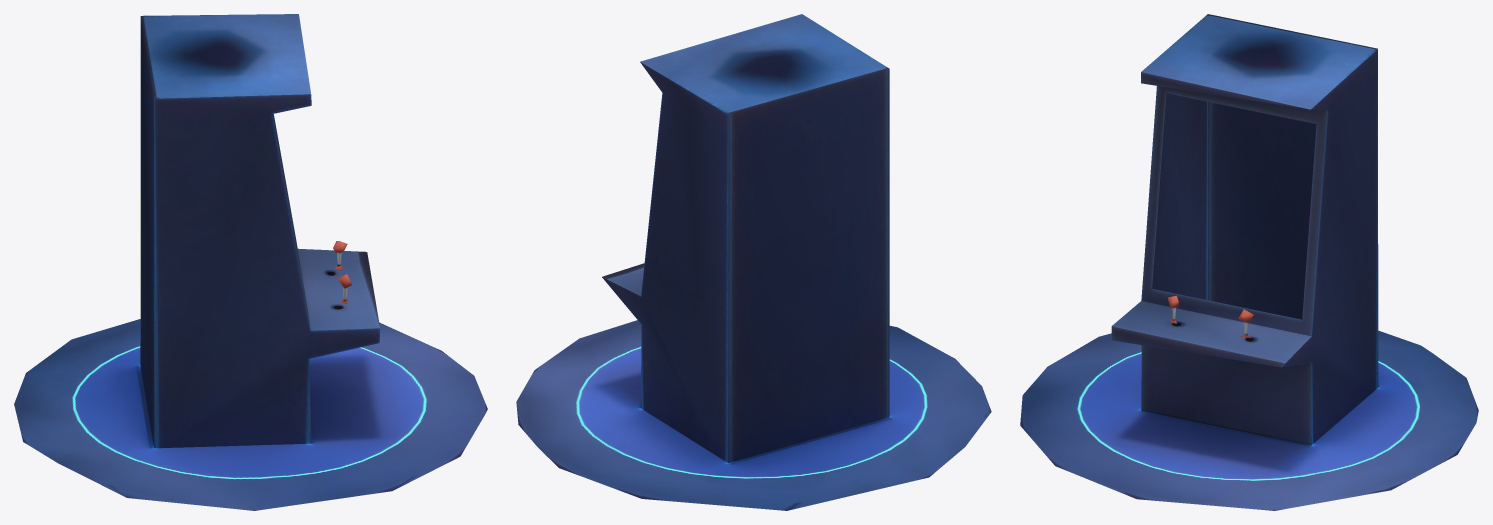
File: GameStation_LOD5.glb
3 views of the same model, side by side, from view 1: azimuth 30°, elevation 25°; view 2: azimuth 150°, elevation 25°; view 3: azimuth 270°, elevation 25° (orthographic). The views are drawn at different scales.
Parts seen in each view (by area): view 1: Game Station_PROCESSED.001_LOD5; view 2: Game Station_PROCESSED.001_LOD5; view 3: Game Station_PROCESSED.001_LOD5.
Part boxes in pixels (x1=…): Game Station_PROCESSED.001_LOD5: x1=14, y1=14, x2=487, y2=510; Game Station_PROCESSED.001_LOD5: x1=516, y1=14, x2=991, y2=510; Game Station_PROCESSED.001_LOD5: x1=1020, y1=14, x2=1478, y2=510.
Size of the model in its own units: 4.12 by 3.43 by 4.13.
Materials: 1 (1 with a texture image).
